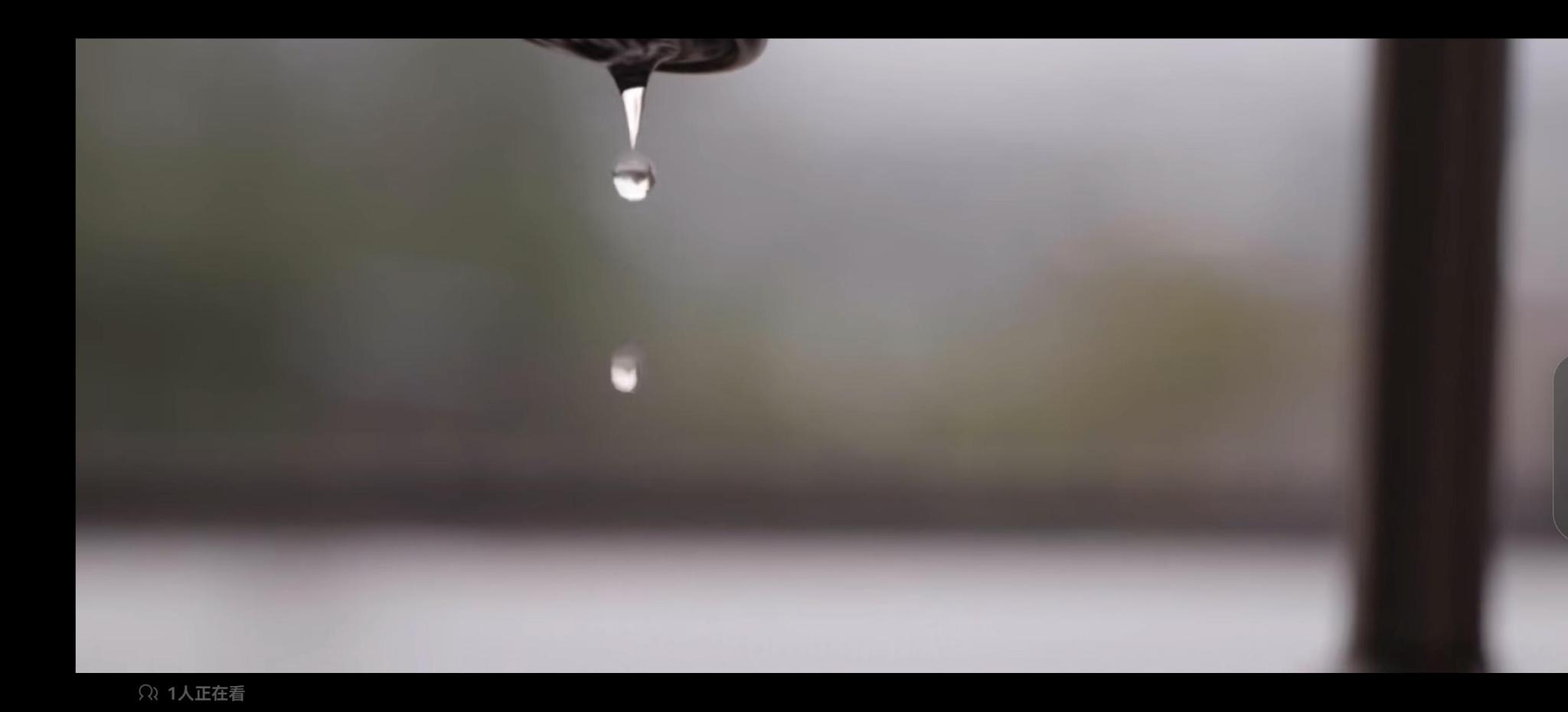water drop: (606, 53, 663, 141), (607, 157, 664, 206), (603, 339, 644, 394)
